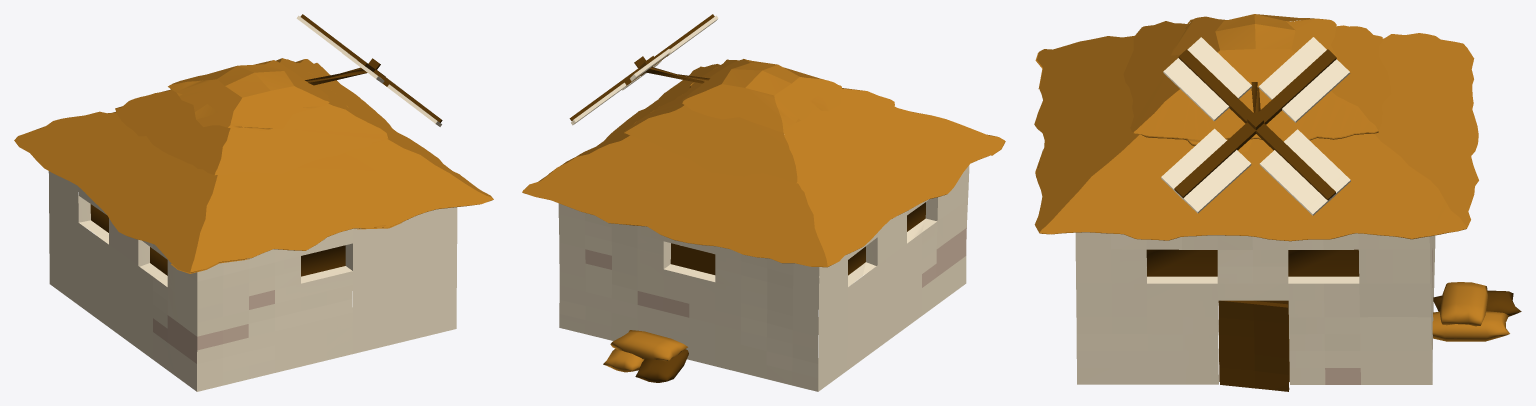
Rendered from millNoAni.gltf.
The picture shows the model from 3 angles, left to right: view 1: azimuth 30°, elevation 25°; view 2: azimuth 150°, elevation 25°; view 3: azimuth 270°, elevation 25°; orthographic projection. The views are drawn at different scales.
Parts seen in each view (by area): view 1: Mill; view 2: Mill; view 3: Mill.
Part boxes in pixels (left/top/right/bottom): Mill: left=14, top=14, right=493, bottom=391; Mill: left=522, top=14, right=1005, bottom=391; Mill: left=1034, top=14, right=1521, bottom=391.
Size of the model in its own units: 7.42 by 5.59 by 7.88.
1 material, 1 textured.
